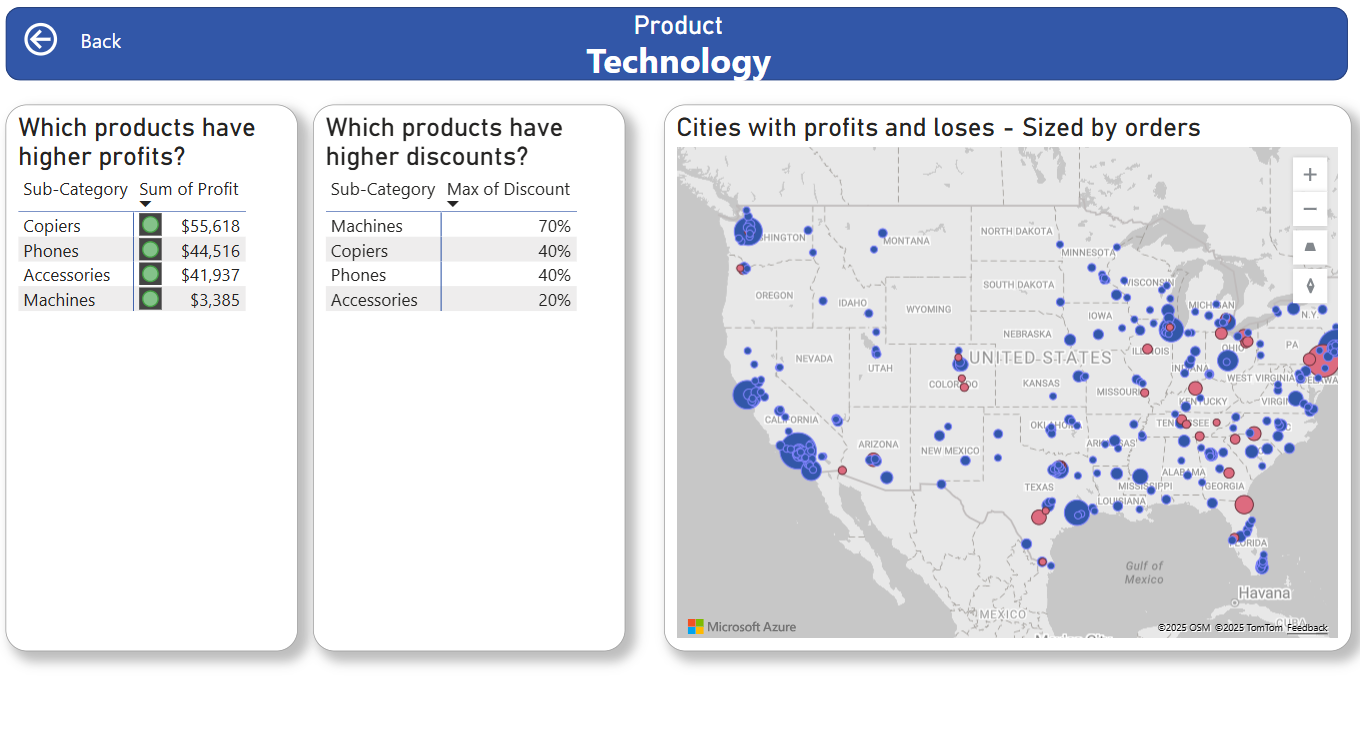

What the dashboard file says about the page in this screenshot:
{"tool":"powerbi","page":{"name":"Product Drill Through","canvas":[1280,720],"ordinal":1},"visuals":[{"type":"shape","box":[9.8,16.8,1252.1,68.6],"z":500},{"type":"card","title":"Product","fields":{"Values":["Min(Orders.Category)"]},"box":[9.8,19.6,1254.9,71.3],"z":1000},{"type":"azureMap","title":"Cities with profits and loses - Sized by orders","fields":{"Category":["Orders.Country Hierarchy.Country","Orders.Country Hierarchy.City"],"Size":["CountNonNull(Orders.Row ID)"]},"box":[623.7,107.1,641.1,510.3],"z":2000},{"type":"actionButton","box":[22.4,26.6,99.3,40.6],"z":3000},{"type":"pivotTable","title":"Which products have higher profits?","fields":{"Values":["Sum(Orders.Profit)"],"Rows":["Orders.Sub-Category"]},"box":[9.5,107.1,272.5,510.3],"z":4000},{"type":"pivotTable","title":"Which products have higher discounts?","fields":{"Rows":["Orders.Sub-Category"],"Values":["Max(Orders.Discount)"]},"box":[296.1,107.1,291.4,510.3],"z":5000}]}

Visuals, with their boxes on the page's 1280x720 design canvas (x1, y1, x2, y2). These are canvas units, not pixel positions in the 1360x729 screenshot, which may show the page scaled, cropped or inside an application window:
shape: {"left": 10, "top": 17, "right": 1262, "bottom": 85}
"Product" card: {"left": 10, "top": 20, "right": 1265, "bottom": 91}
"Cities with profits and loses - Sized by orders" azureMap: {"left": 624, "top": 107, "right": 1265, "bottom": 617}
actionButton: {"left": 22, "top": 27, "right": 122, "bottom": 67}
"Which products have higher profits?" pivotTable: {"left": 10, "top": 107, "right": 282, "bottom": 617}
"Which products have higher discounts?" pivotTable: {"left": 296, "top": 107, "right": 588, "bottom": 617}
